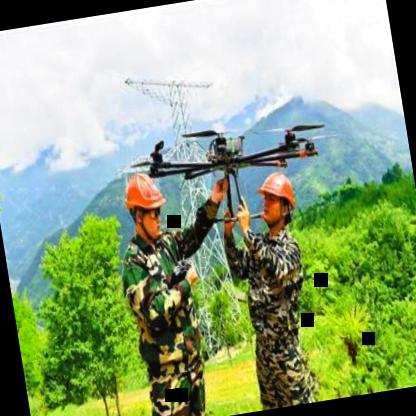helmet: (114, 164, 174, 247), (250, 164, 300, 232)
